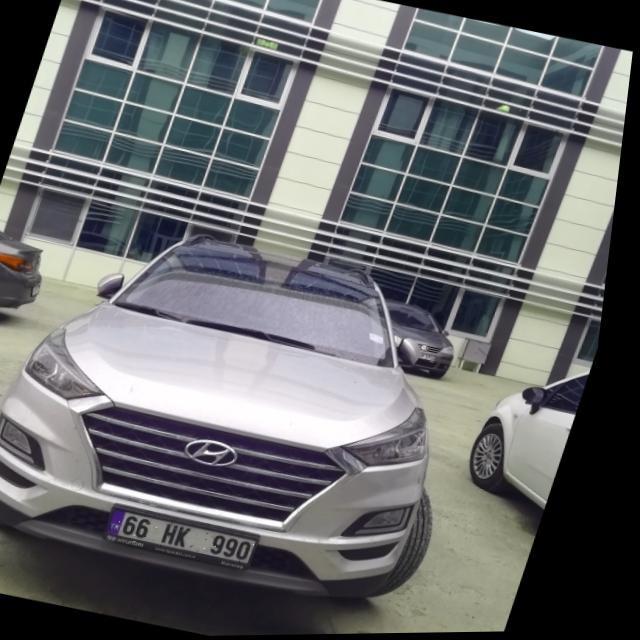license_plate: (114, 508, 275, 569)
